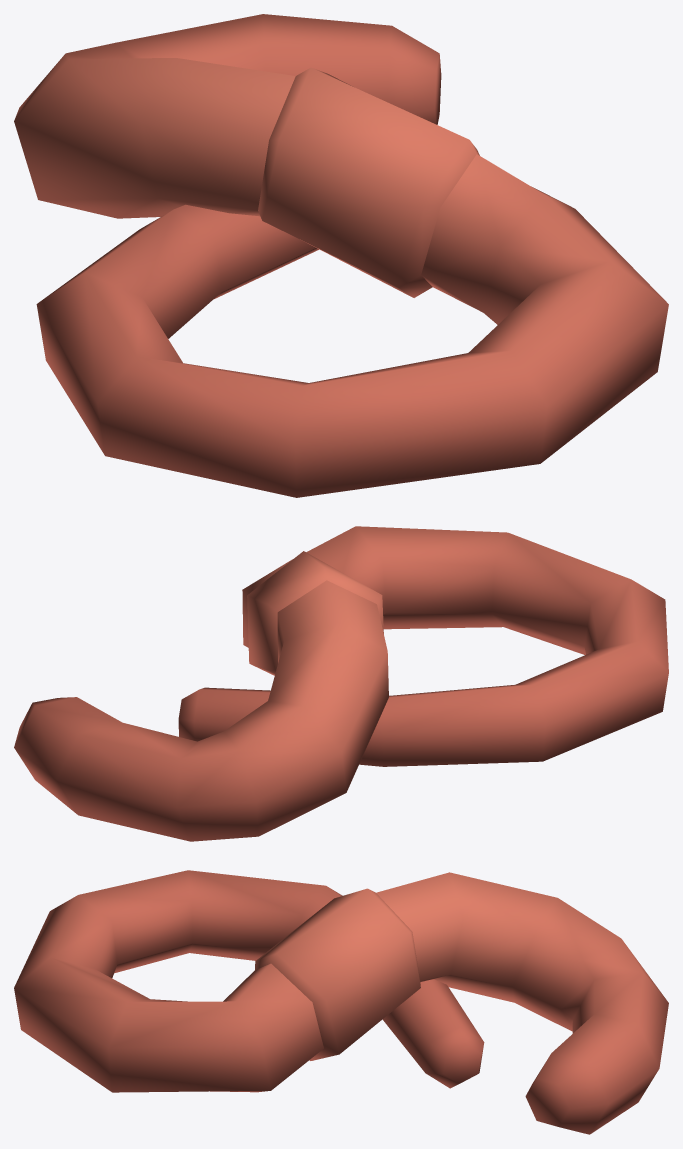
File: Earthworm1.fbx
The picture shows the model from 3 angles, top to bottom: view 1: azimuth 30°, elevation 25°; view 2: azimuth 150°, elevation 25°; view 3: azimuth 270°, elevation 25°; orthographic projection. The views are drawn at different scales.
Visible parts, largest first — view 1: Earthworm1; view 2: Earthworm1; view 3: Earthworm1.
Part boxes in pixels (x1,y1,x2,y2): Earthworm1: (14,14,668,497); Earthworm1: (14,526,668,841); Earthworm1: (14,870,668,1134).
Size of the model in its own units: 4.93 by 1.8 by 6.46.
